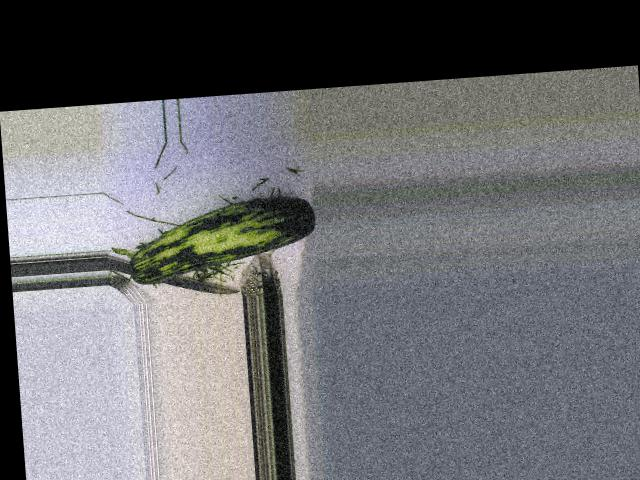cucumber: (123, 194, 318, 285)
